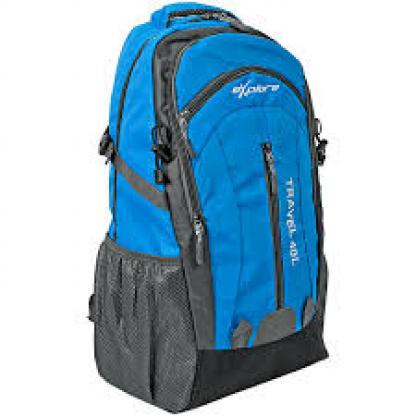morral: (80, 2, 340, 414)
